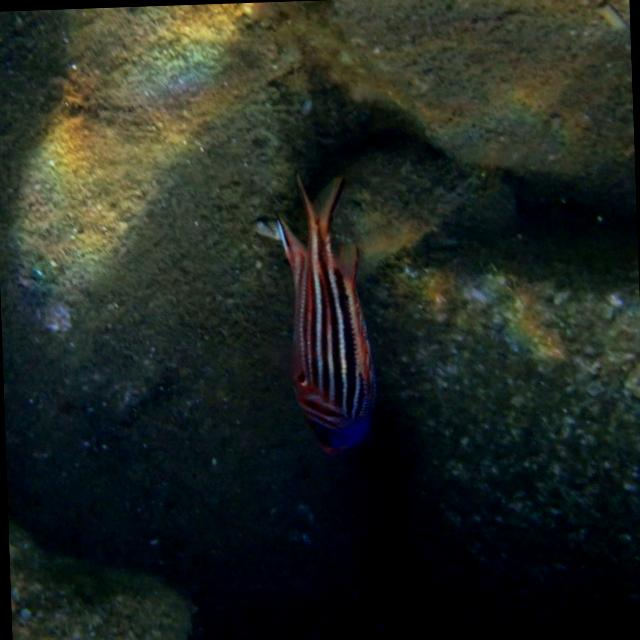Asker Baligi: (247, 154, 391, 468)
